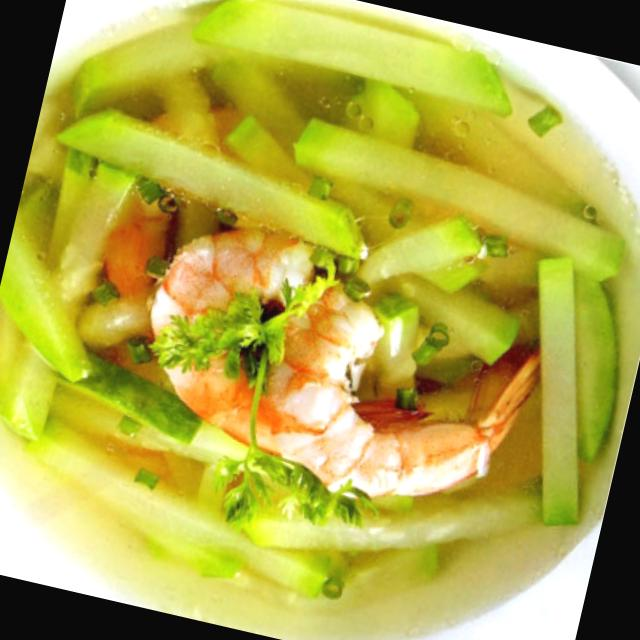canh bau: (0, 0, 640, 640)
tom: (254, 284, 484, 496), (149, 228, 314, 342), (164, 326, 259, 442)
